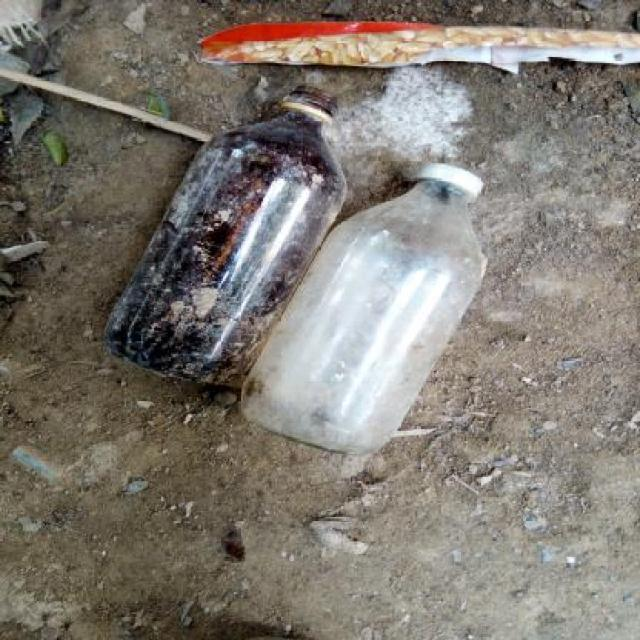garbage: (104, 9, 640, 455)
